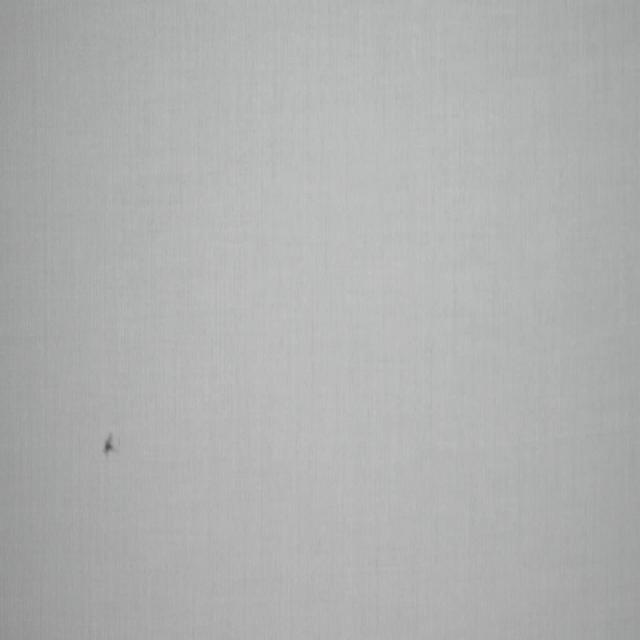dirty: (101, 434, 115, 454)
